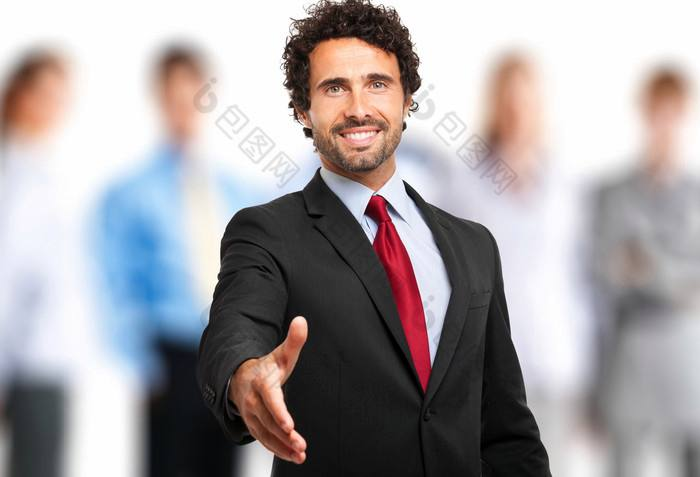no-phone: (231, 314, 320, 464)
